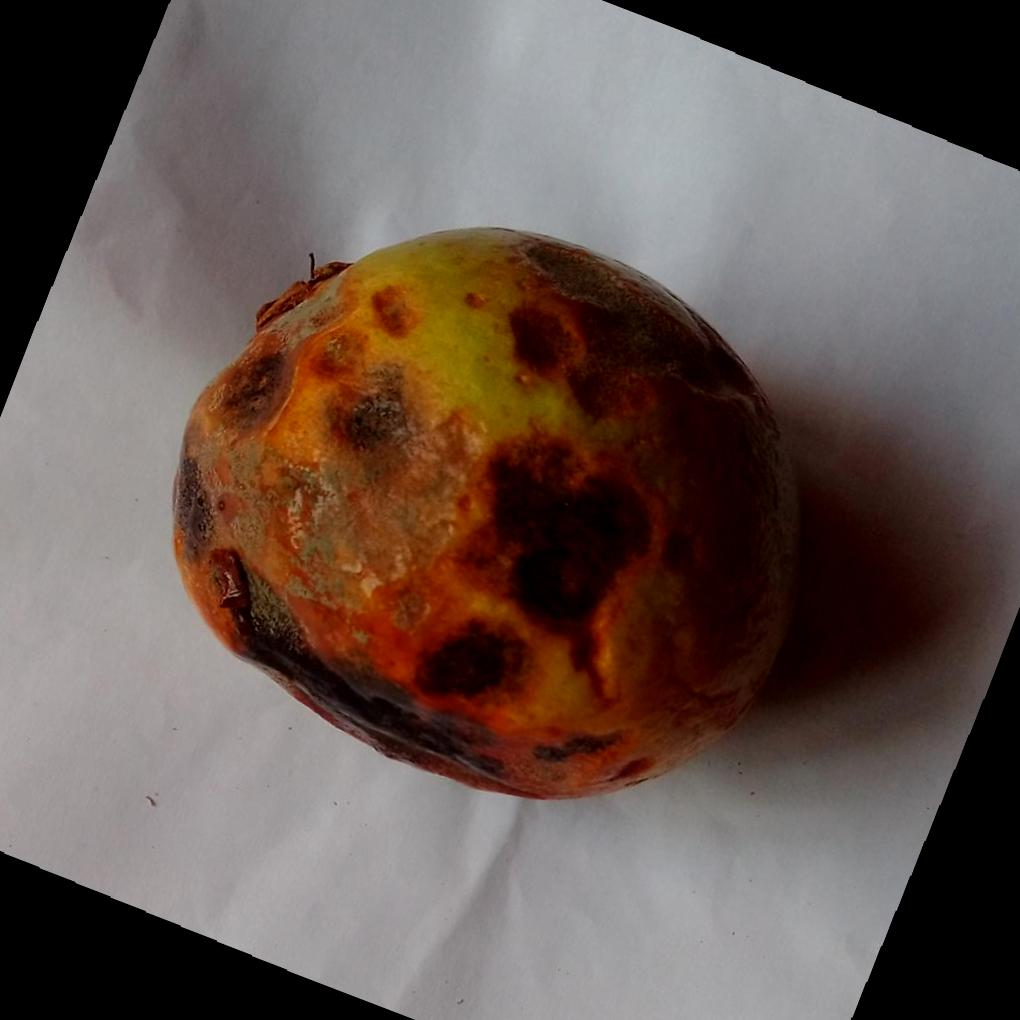FreshOrange: (171, 226, 807, 803)
